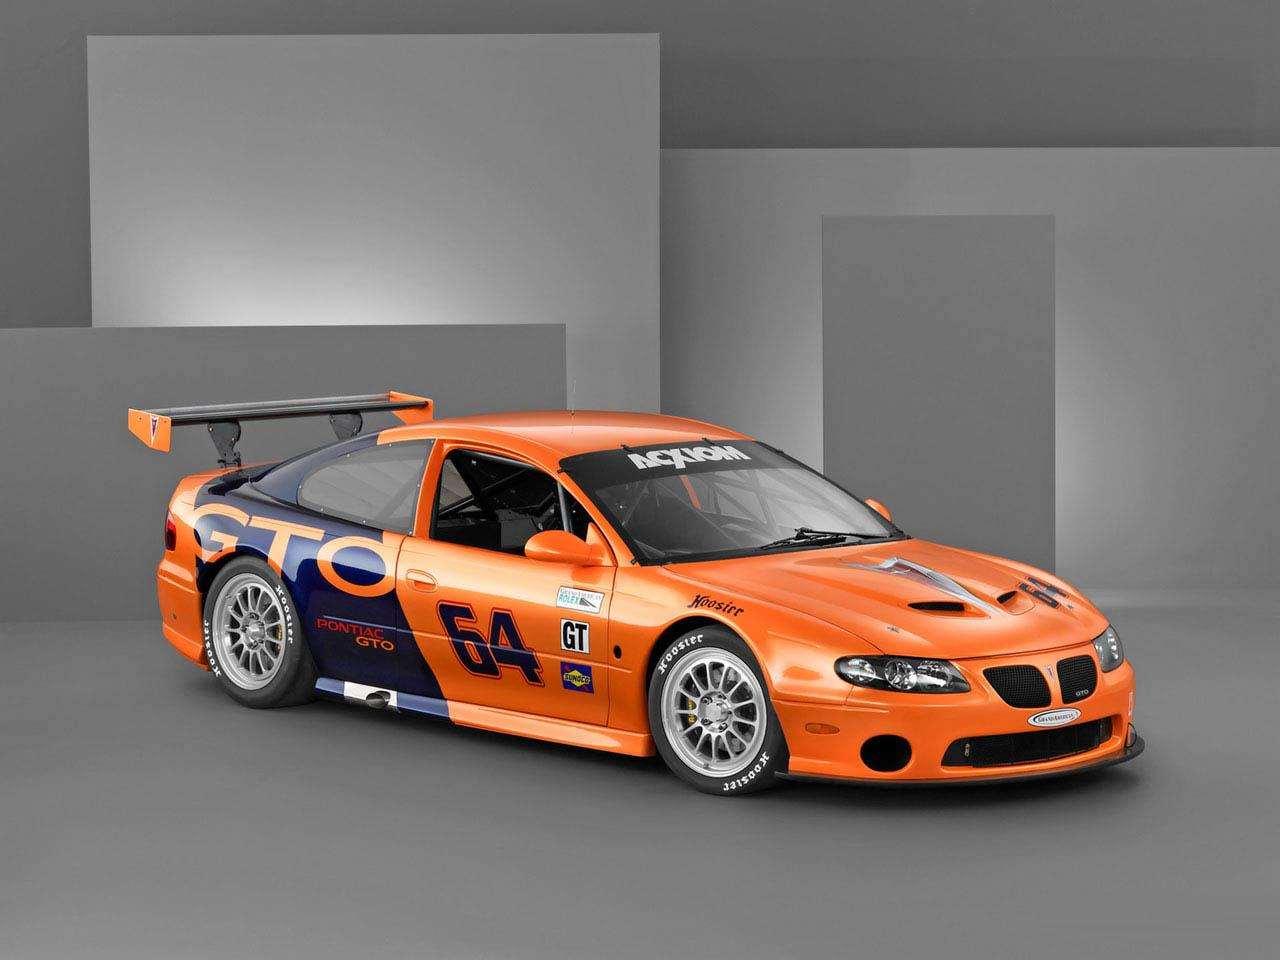Car: (100, 320, 1239, 878)
